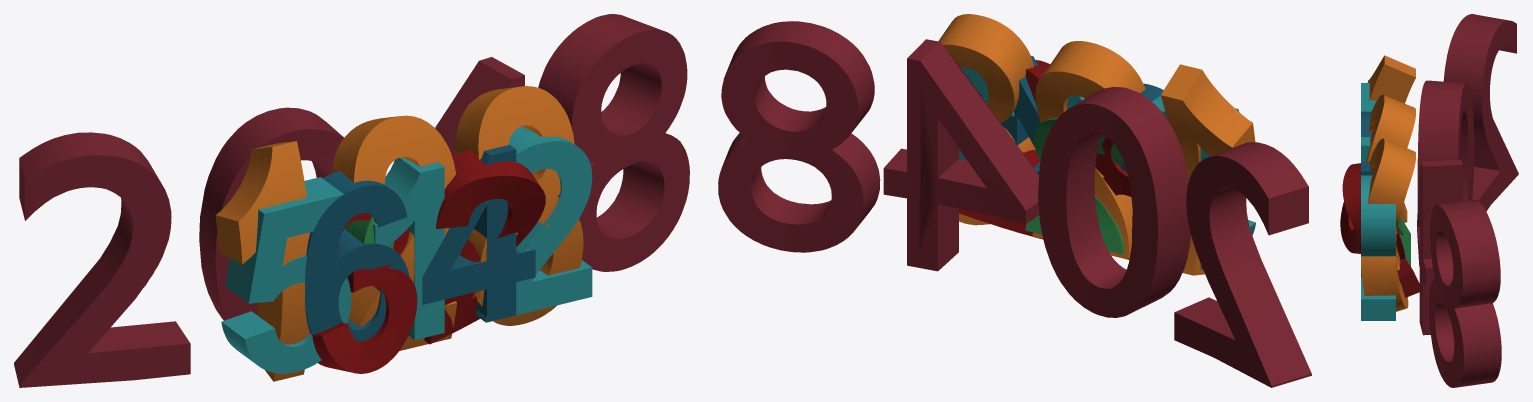
3 views of the same model, side by side, from view 1: azimuth 30°, elevation 25°; view 2: azimuth 150°, elevation 25°; view 3: azimuth 270°, elevation 25° (orthographic). The views are drawn at different scales.
Visible parts, largest first — view 1: item_2048, item_128, item_512, item_64, item_32, item_2; view 2: item_2048, item_128, item_32, item_2, item_64, item_512; view 3: item_2048, item_128, item_512, item_32, item_64, item_2.
Boxes of the visible parts, x1=… form: item_2048: x1=14, y1=14, x2=689, y2=387; item_128: x1=215, y1=86, x2=583, y2=381; item_512: x1=221, y1=126, x2=592, y2=373; item_64: x1=305, y1=144, x2=535, y2=341; item_32: x1=312, y1=150, x2=545, y2=373; item_2: x1=344, y1=193, x2=460, y2=268; item_2048: x1=718, y1=21, x2=1311, y2=387; item_128: x1=938, y1=14, x2=1255, y2=275; item_32: x1=957, y1=60, x2=1131, y2=259; item_2: x1=1025, y1=117, x2=1124, y2=254; item_64: x1=1001, y1=56, x2=1163, y2=229; item_512: x1=959, y1=67, x2=1255, y2=269; item_2048: x1=1417, y1=14, x2=1518, y2=387; item_128: x1=1361, y1=55, x2=1415, y2=311; item_512: x1=1361, y1=83, x2=1395, y2=320; item_32: x1=1340, y1=162, x2=1420, y2=297; item_64: x1=1361, y1=111, x2=1373, y2=276; item_2: x1=1398, y1=216, x2=1410, y2=266.
Size of the model in its own units: 2.08 by 0.7463 by 0.6627.
